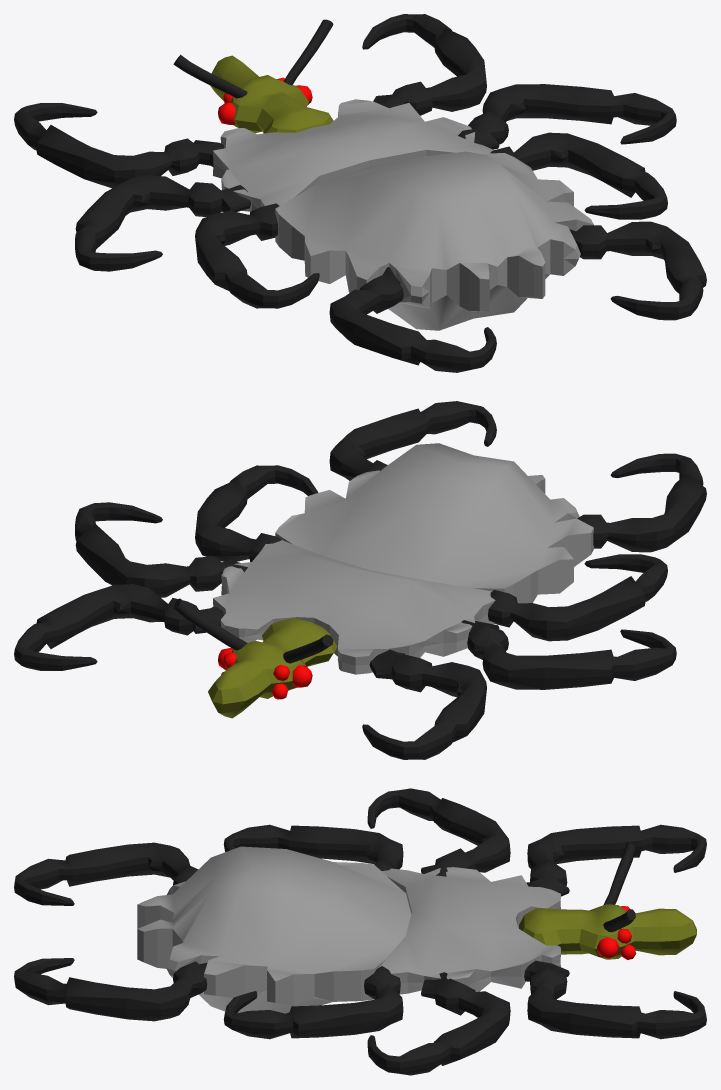
The model's file is Horror_Monster.FBX.
3 renders of one model, top to bottom at view 1: azimuth 30°, elevation 25°; view 2: azimuth 150°, elevation 25°; view 3: azimuth 270°, elevation 25°, orthographic. The views are drawn at different scales.
Parts seen in each view (by area): view 1: Horror_Monster; view 2: Horror_Monster; view 3: Horror_Monster.
Part boxes in pixels (box(x1,y1,x2,y2)): Horror_Monster: box(14, 14, 706, 372); Horror_Monster: box(14, 401, 706, 759); Horror_Monster: box(14, 788, 706, 1075).
Bounding box in the file's own units: 113 × 25.3 × 122.
